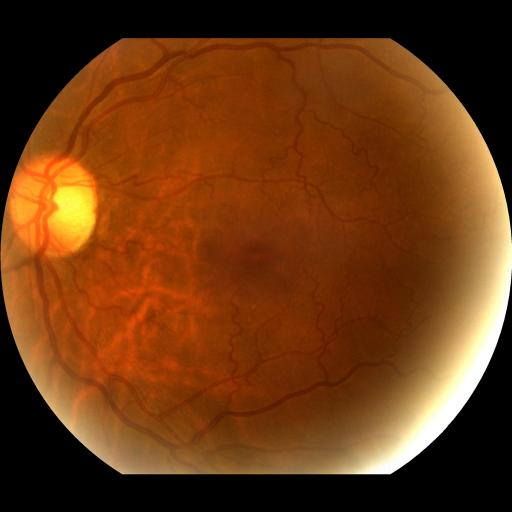Optic Cup: (47, 185, 94, 233)
Optic Disc: (8, 154, 98, 257)
